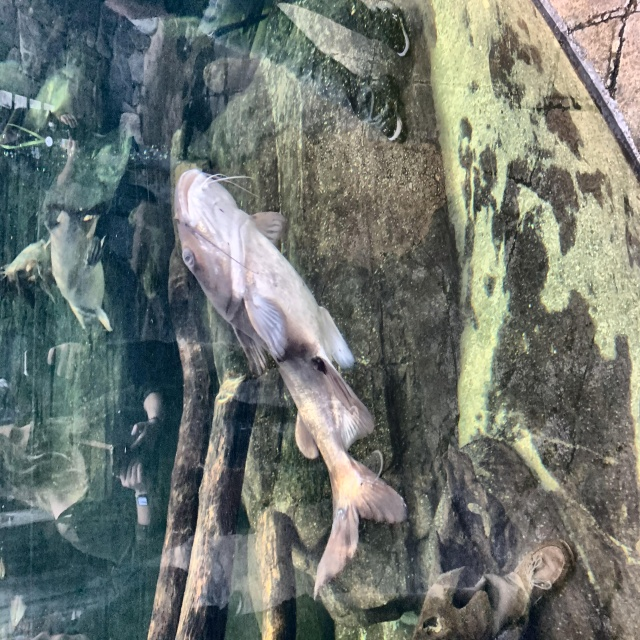fish: (174, 170, 413, 601), (244, 156, 310, 289)
